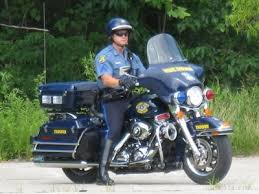helmet: (107, 16, 132, 45)
